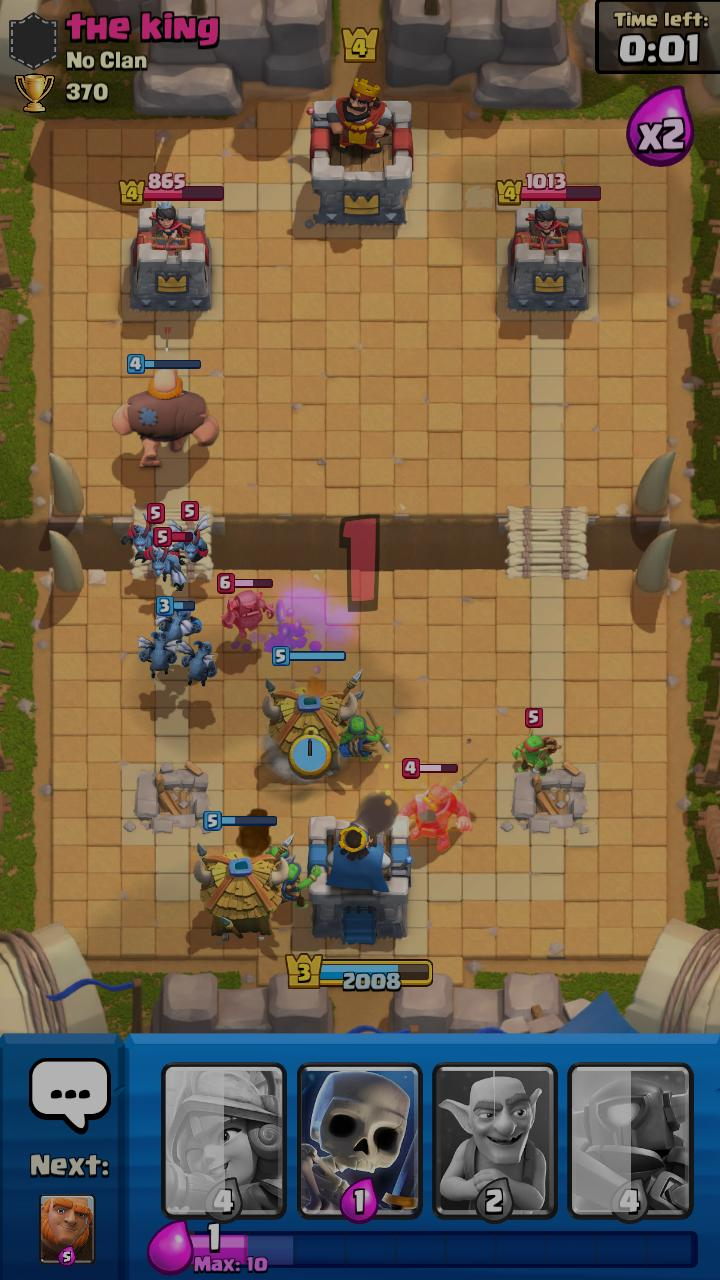ally: (262, 645, 365, 776), (194, 811, 295, 941), (112, 354, 219, 468), (338, 710, 391, 759), (155, 596, 202, 643), (138, 630, 181, 680), (176, 639, 217, 686), (281, 863, 320, 908), (265, 844, 296, 867)
enemy: (398, 758, 472, 851), (217, 573, 276, 640), (135, 527, 193, 591), (513, 707, 562, 776), (167, 501, 212, 565), (120, 503, 165, 550)
